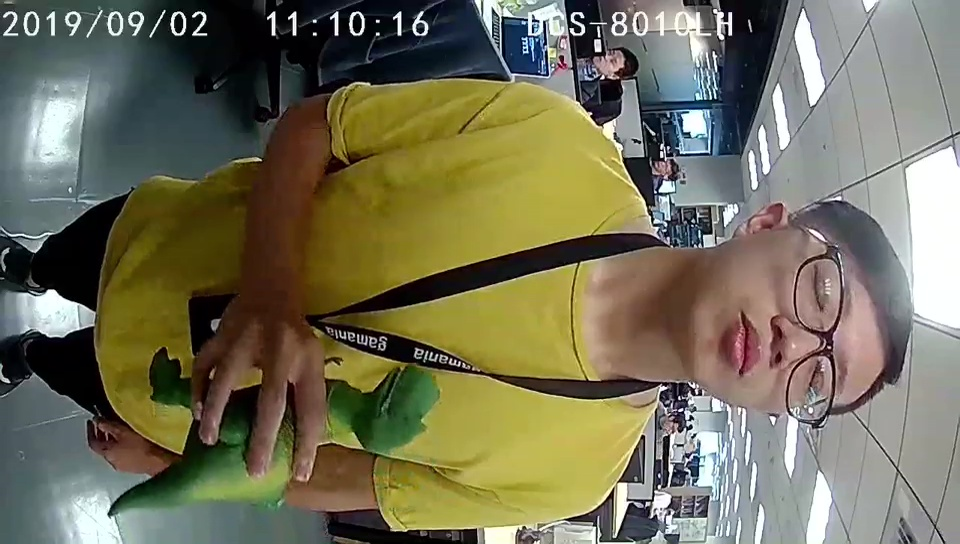rex: (164, 365, 440, 509)
